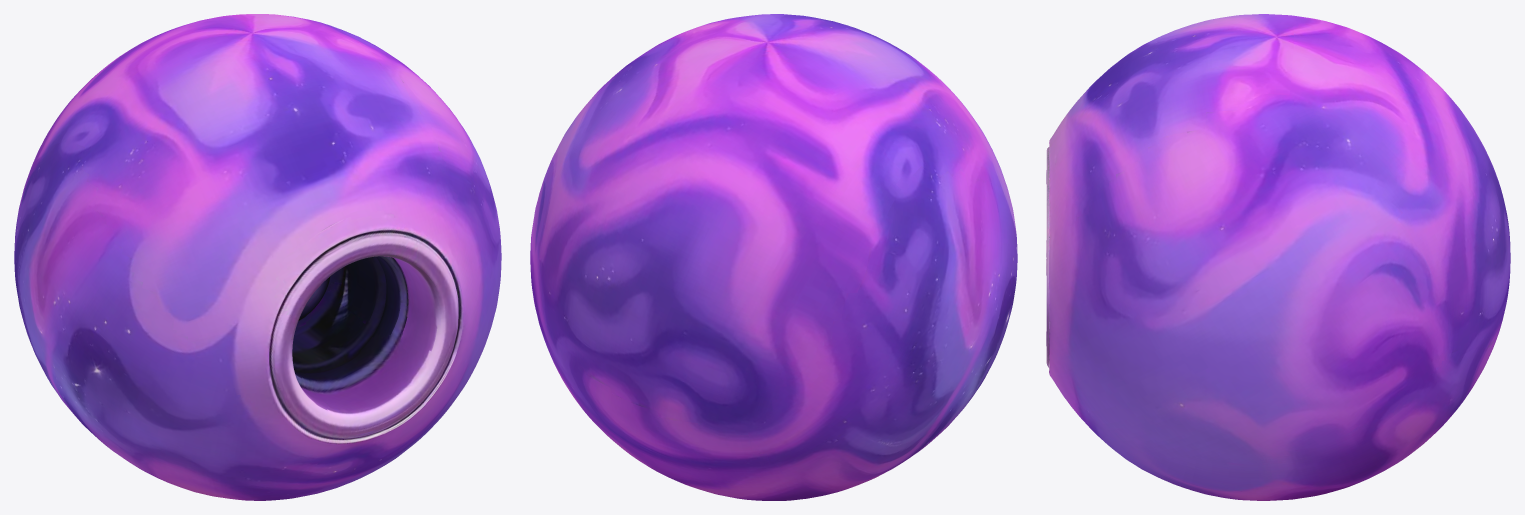
The picture shows the model from 3 angles, left to right: view 1: azimuth 30°, elevation 25°; view 2: azimuth 150°, elevation 25°; view 3: azimuth 270°, elevation 25°; orthographic projection.
Visible parts, largest first — view 1: model; view 2: model; view 3: model.
Part boxes in pixels (box(x1,y1,x2,y2)): model: box(14, 14, 501, 500); model: box(530, 14, 1017, 500); model: box(1046, 14, 1510, 500).
Bounding box in the file's own units: 1.91 × 1.91 × 1.82.
Materials: 1 (1 with a texture image).
